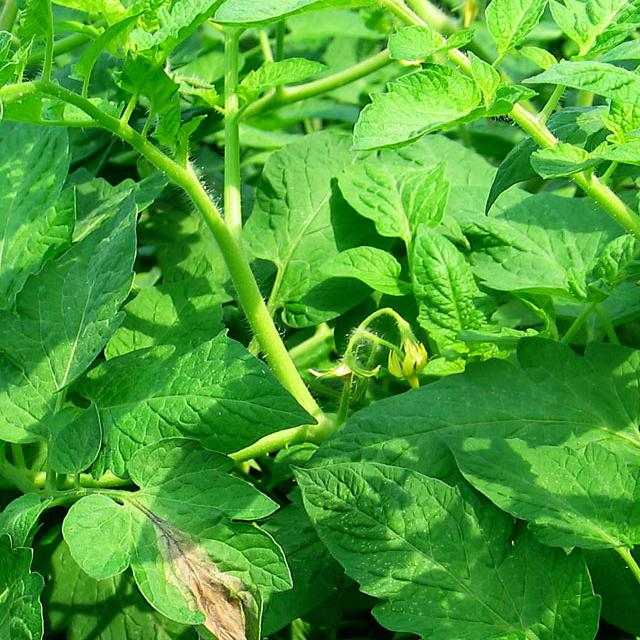Tomato leaf late blight: (293, 449, 598, 640), (0, 174, 161, 476), (74, 468, 289, 640), (464, 410, 640, 573), (0, 91, 71, 342), (338, 75, 506, 148), (0, 506, 51, 640)
